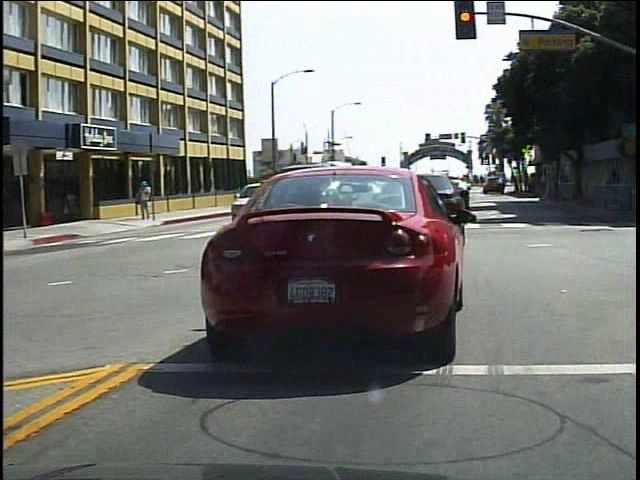person: (136, 176, 158, 225)
